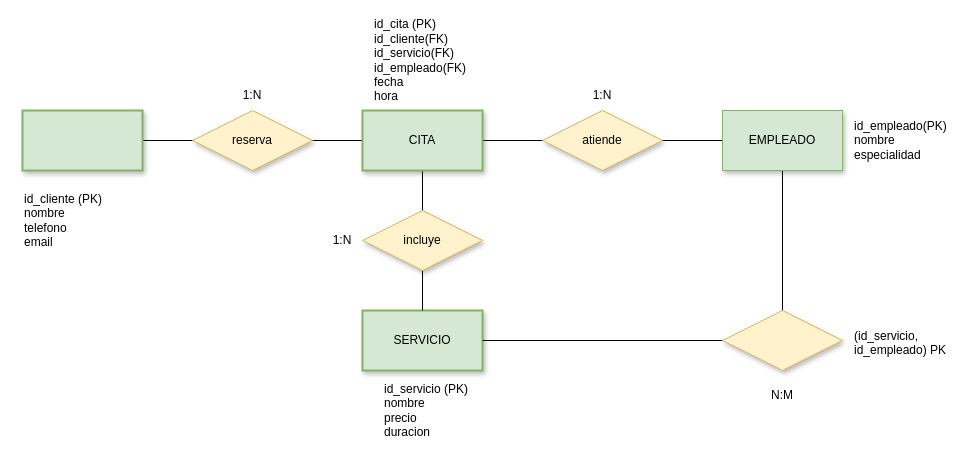
This 969x467 diagram has some shape labels left out. Here are the shapes that lost their labels. From the top down, the centre of each, then its label:
(x=83, y=141): CLIENTE
(x=783, y=342): ofrece
